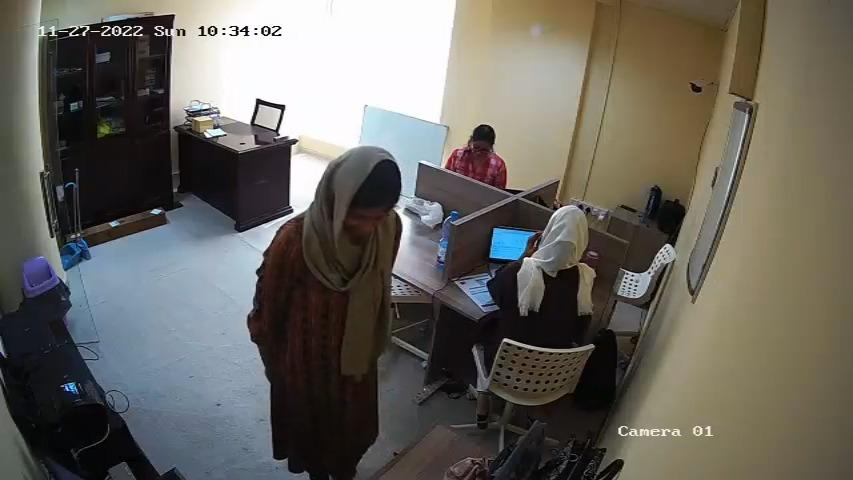no_apron: (272, 231, 383, 442)
